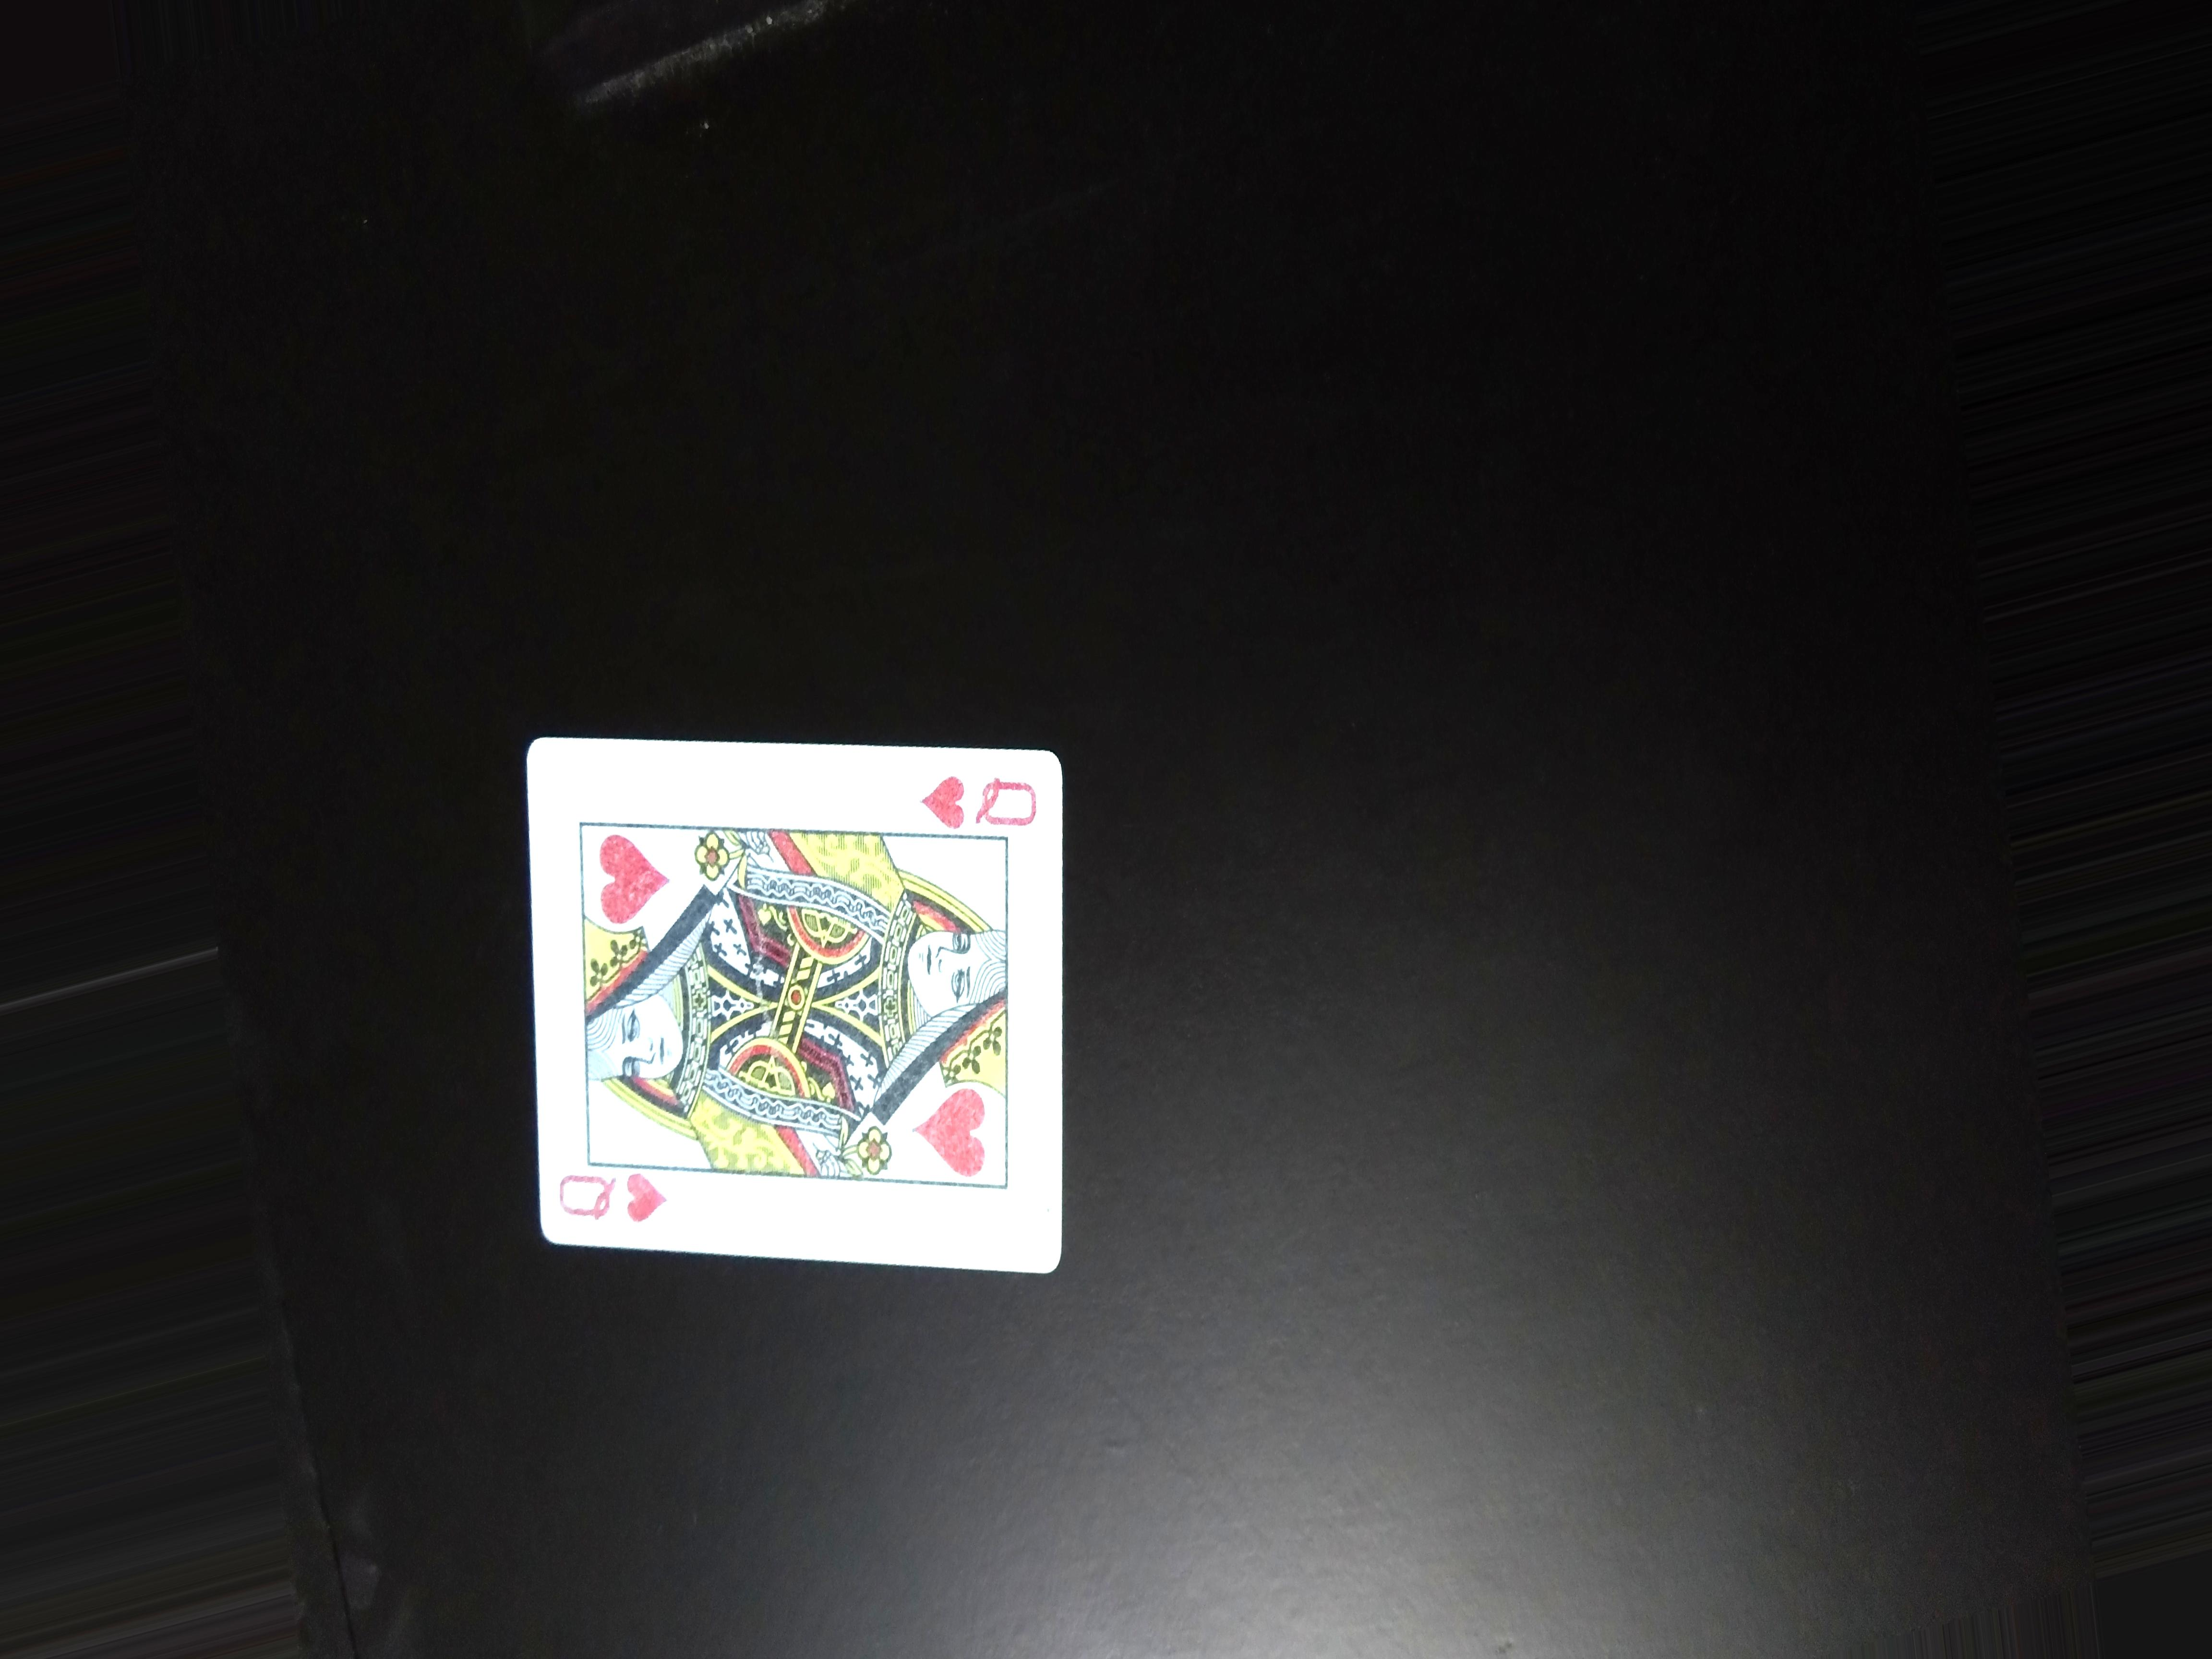QH: (543, 1166, 669, 1232)
